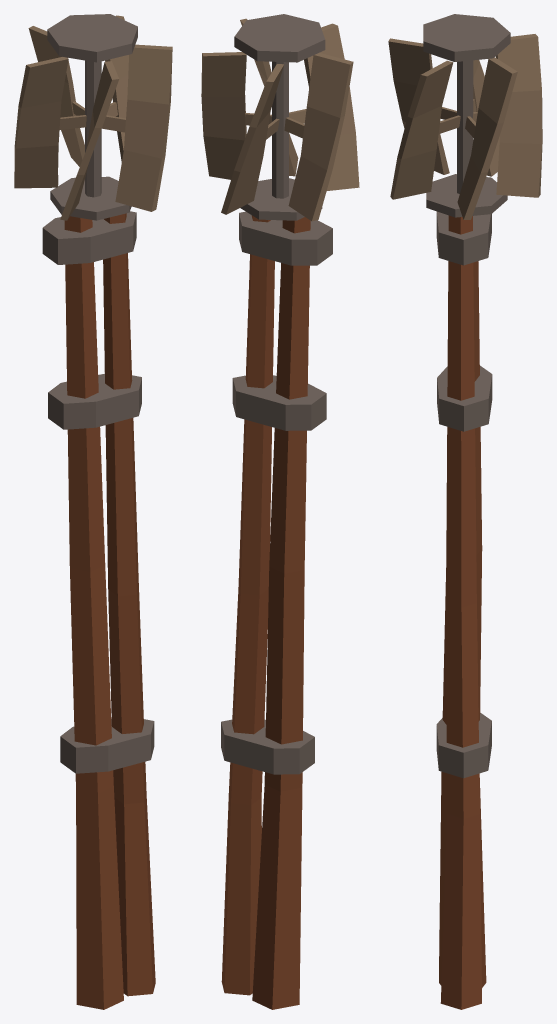
Rendered from LP_PostApoc_VerticalWindmill.fbx.
3 renders of one model, left to right at view 1: azimuth 30°, elevation 25°; view 2: azimuth 150°, elevation 25°; view 3: azimuth 270°, elevation 25°, orthographic.
Parts seen in each view (by area): view 1: VerticalWindmill; view 2: VerticalWindmill; view 3: VerticalWindmill.
Part boxes in pixels (<box>): VerticalWindmill: <box>14,14,172,1009</box>; VerticalWindmill: <box>201,14,359,1009</box>; VerticalWindmill: <box>388,14,542,1009</box>.
Size of the model in its own units: 83.42 by 562 by 82.67.
